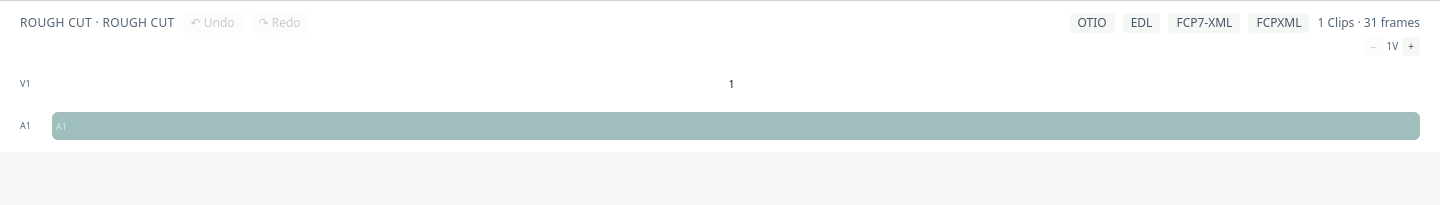
Test: TimelineBar › clicking '+ Track' adds an empty video lane row as a drop target
Expected: the field labelled "V2" is not shown
Click the button titled "Add a video track" at (1411, 46), box [1402,37,1420,56]
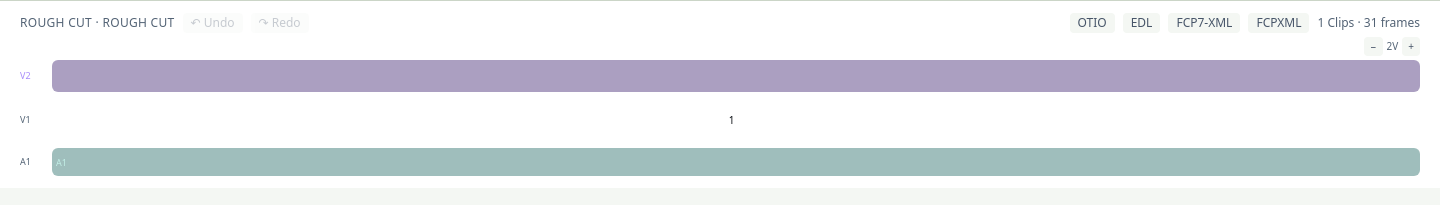
Expected: the element labelled "V1" is shown, [20,96,1420,144]
Expected: the element labelled "V2" is shown, [20,60,1420,92]
